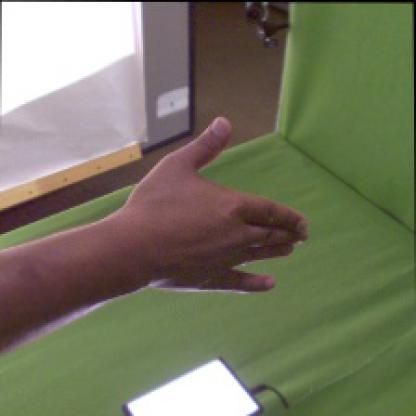Hand: (121, 116, 310, 294)
